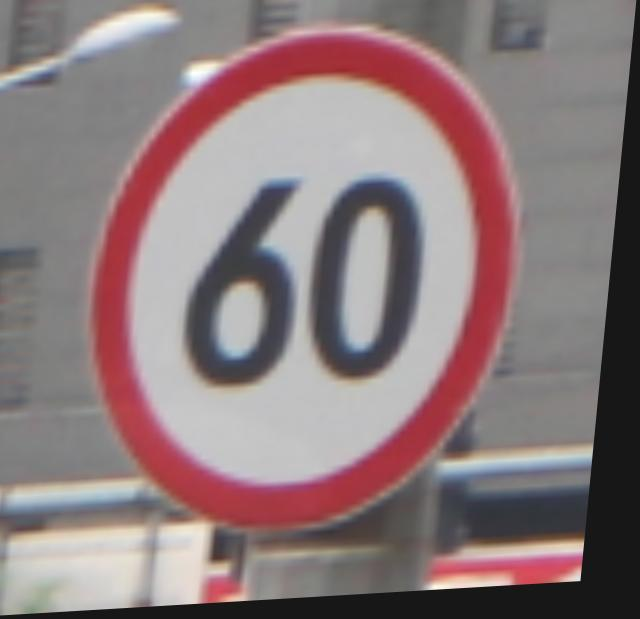limit60: (71, 8, 561, 559)
